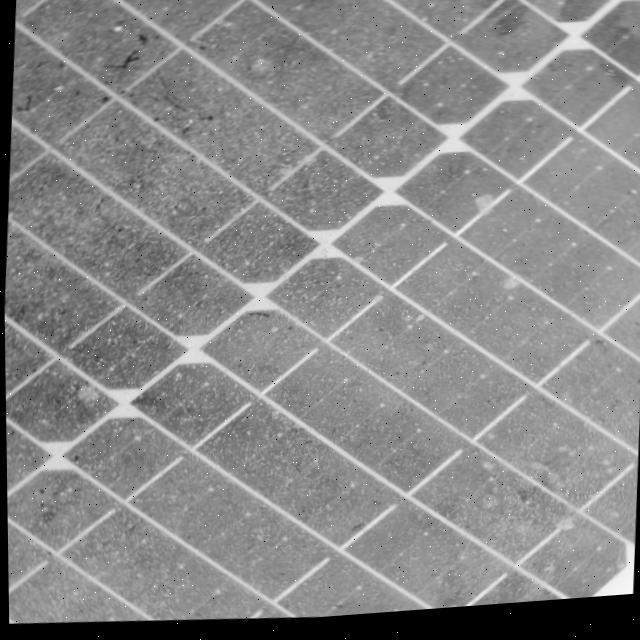Anomaly Solar Panel: (0, 0, 640, 640)
Surface Contaminant: (4, 0, 640, 624)
